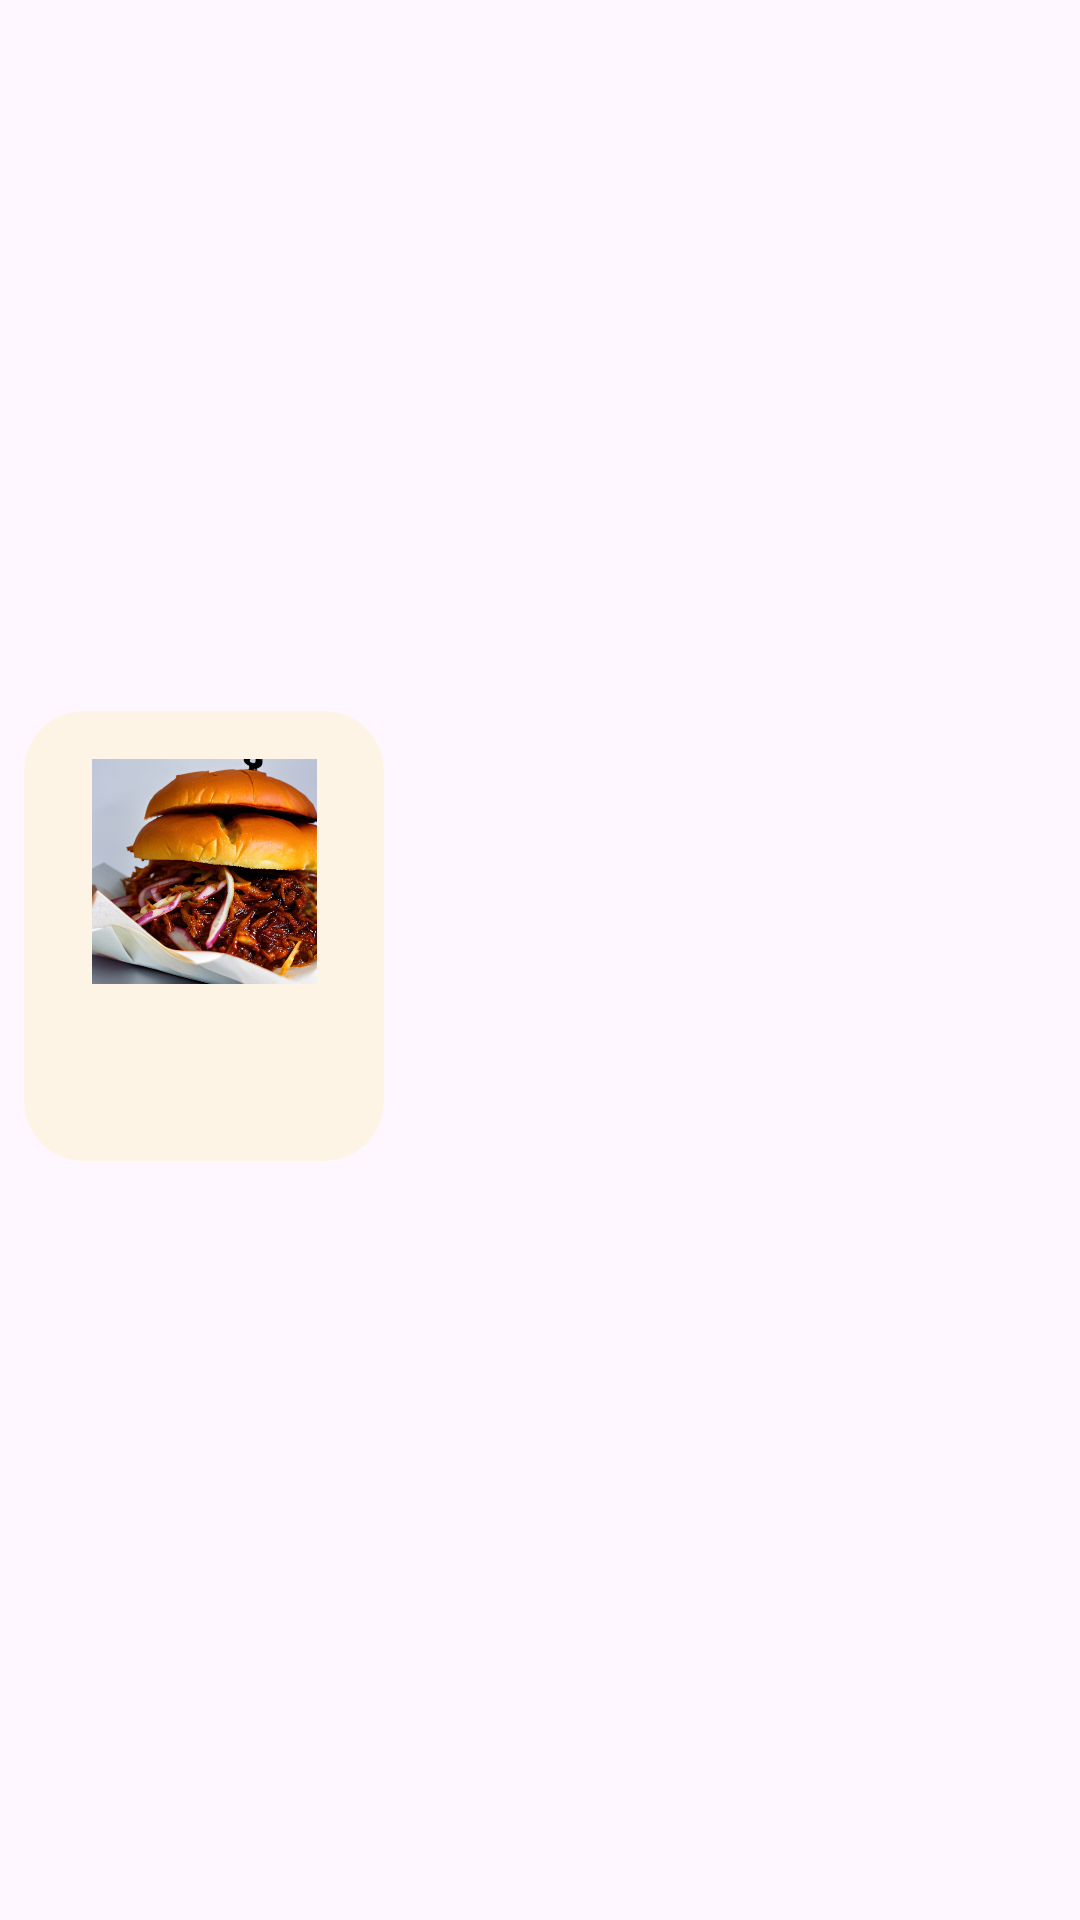

Locate icon controls on the screen. Image size 1080×1920, boxes as [x1, y1, x2, y2].
pulled pork sandwich: [92, 759, 317, 984]
